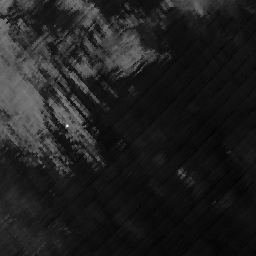Target: (64, 123, 69, 128)
